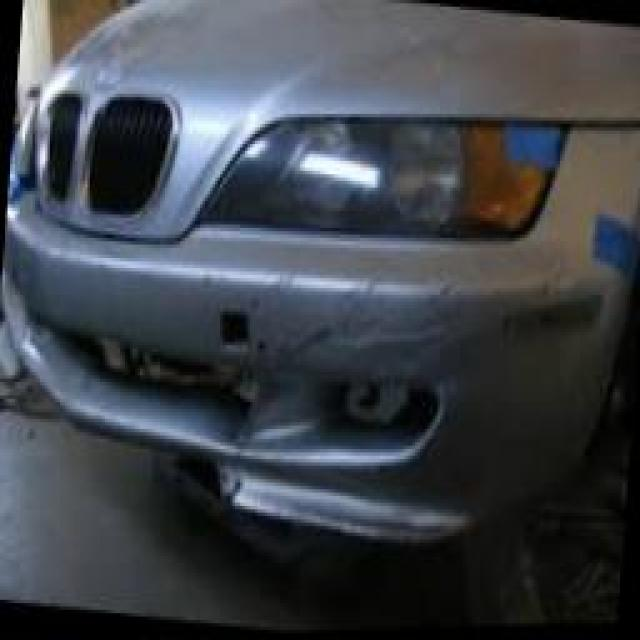Bumper: (168, 244, 615, 462)
